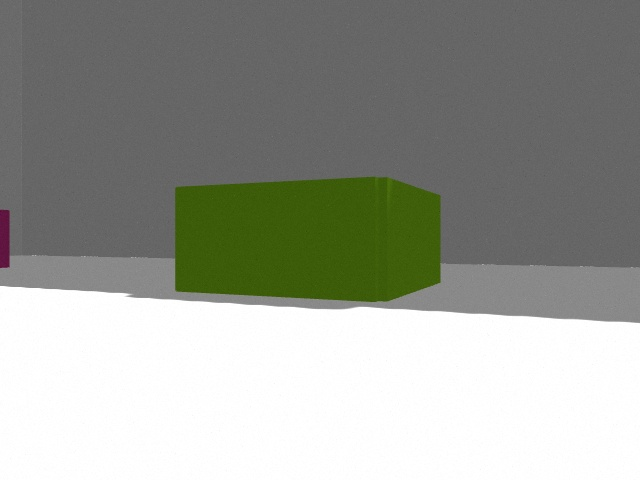green_drop_zone: (175, 177, 441, 302)
red_drop_zone: (0, 210, 10, 268)
